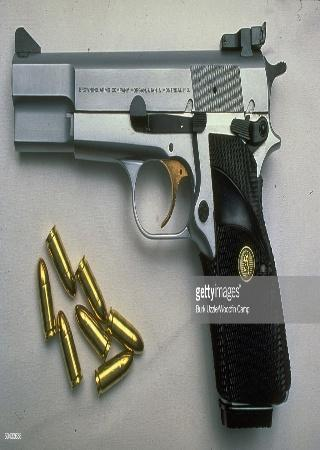weapon: (11, 21, 293, 430)
